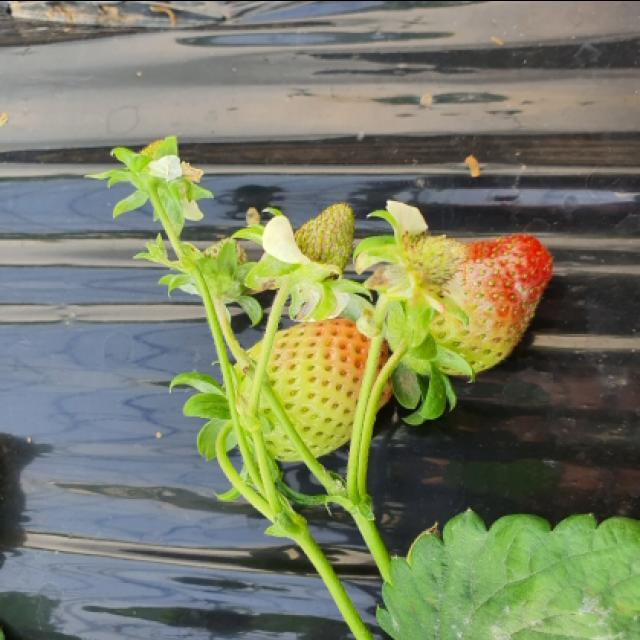Powdery Mildew Fruit: (456, 229, 555, 336)
